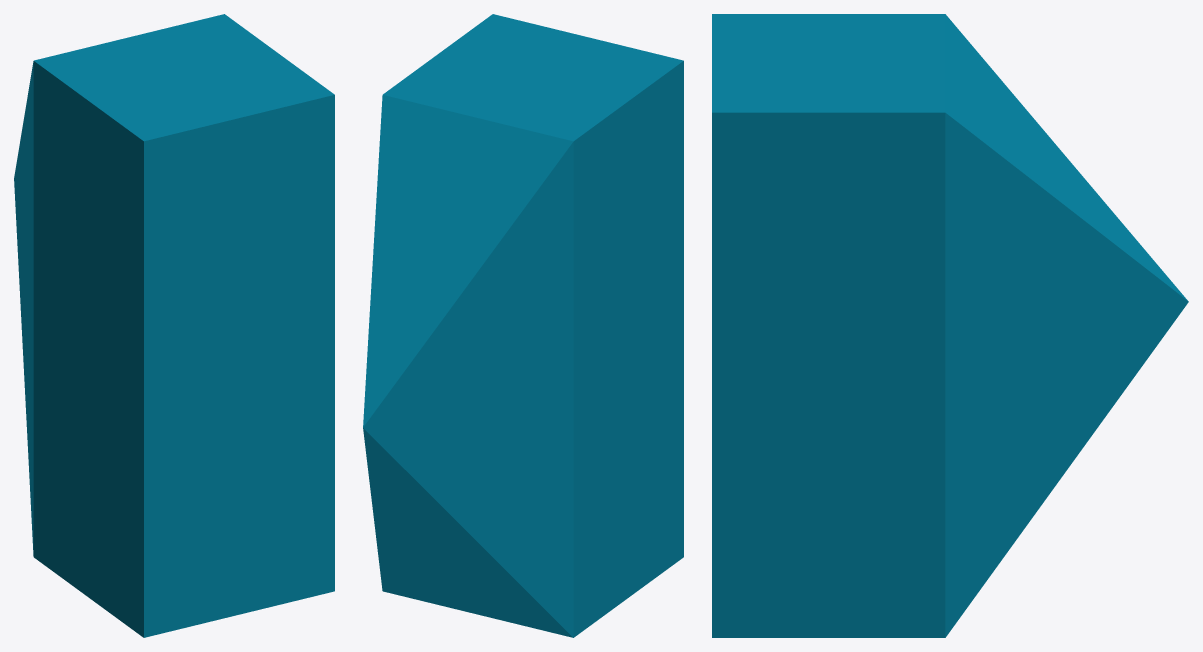
3 views of the same model, side by side, from view 1: azimuth 30°, elevation 25°; view 2: azimuth 150°, elevation 25°; view 3: azimuth 270°, elevation 25° (orthographic). The views are drawn at different scales.
Visible parts, largest first — view 1: pCube1; view 2: pCube1; view 3: pCube1.
Boxes of the visible parts, x1,y1,x2,y2 form: pCube1: (14,14,334,637); pCube1: (363,14,683,637); pCube1: (712,14,1188,637).
Size of the model in its own units: 70 by 174 by 143.
